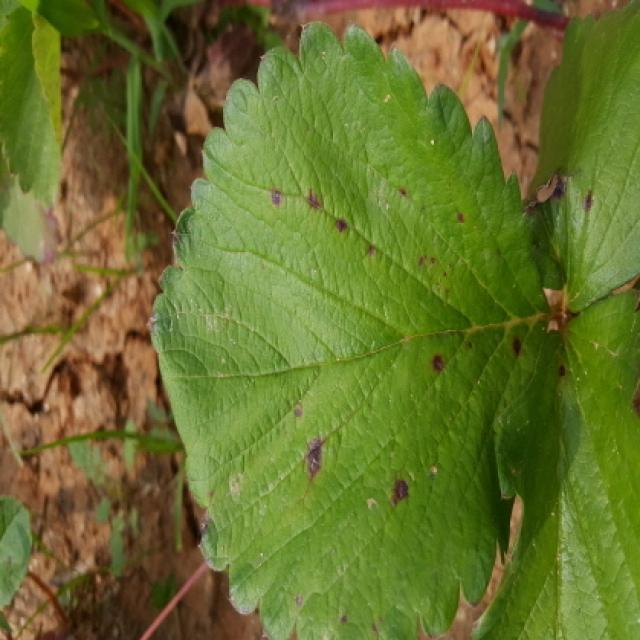Leaf Spot: (147, 20, 557, 638), (472, 291, 638, 638), (524, 0, 638, 313)
